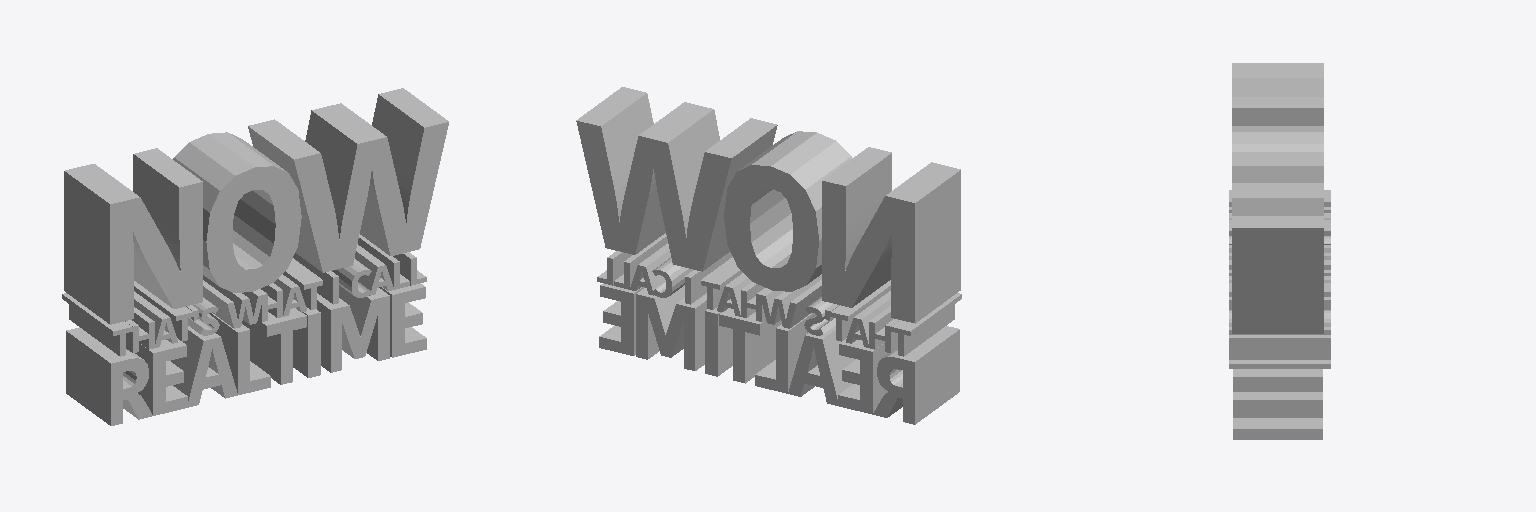
File: NTWICR.obj
3 renders of one model, left to right at view 1: azimuth 30°, elevation 25°; view 2: azimuth 150°, elevation 25°; view 3: azimuth 270°, elevation 25°, orthographic.
Bounding box in the file's own units: 29.52 × 18.65 × 7.74.